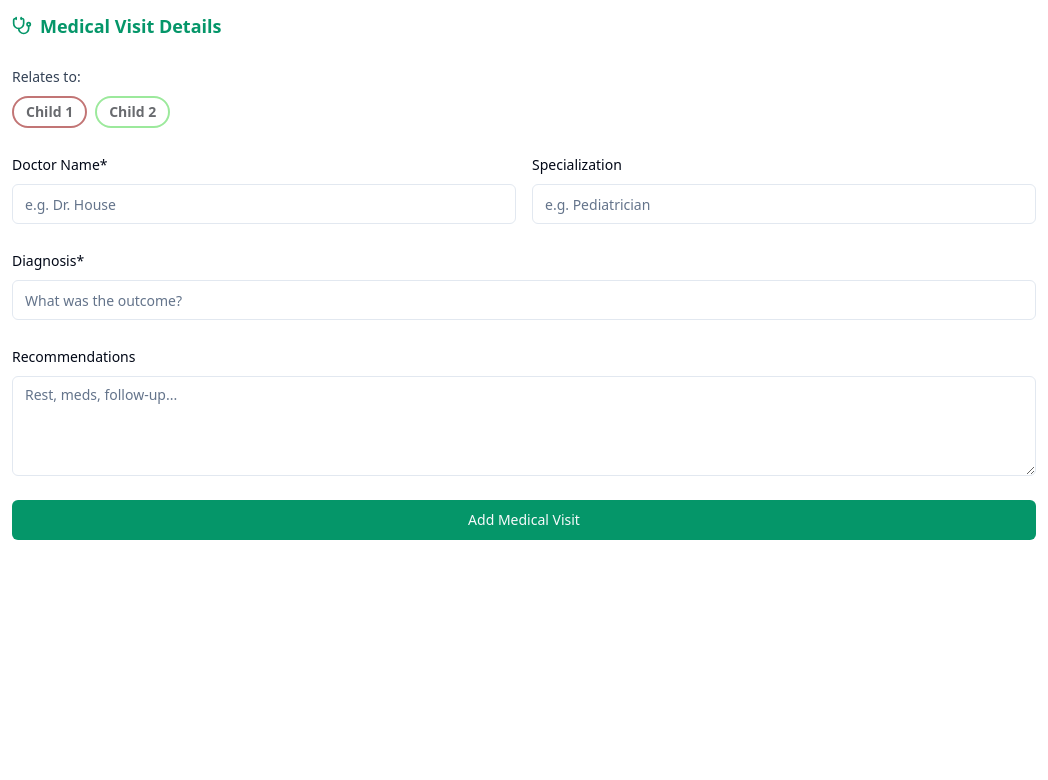
it: MedicalForm › shows validation errors when fields are empty
Click the button "Add Medical Visit" at (524, 520), box [12,500,1036,540]
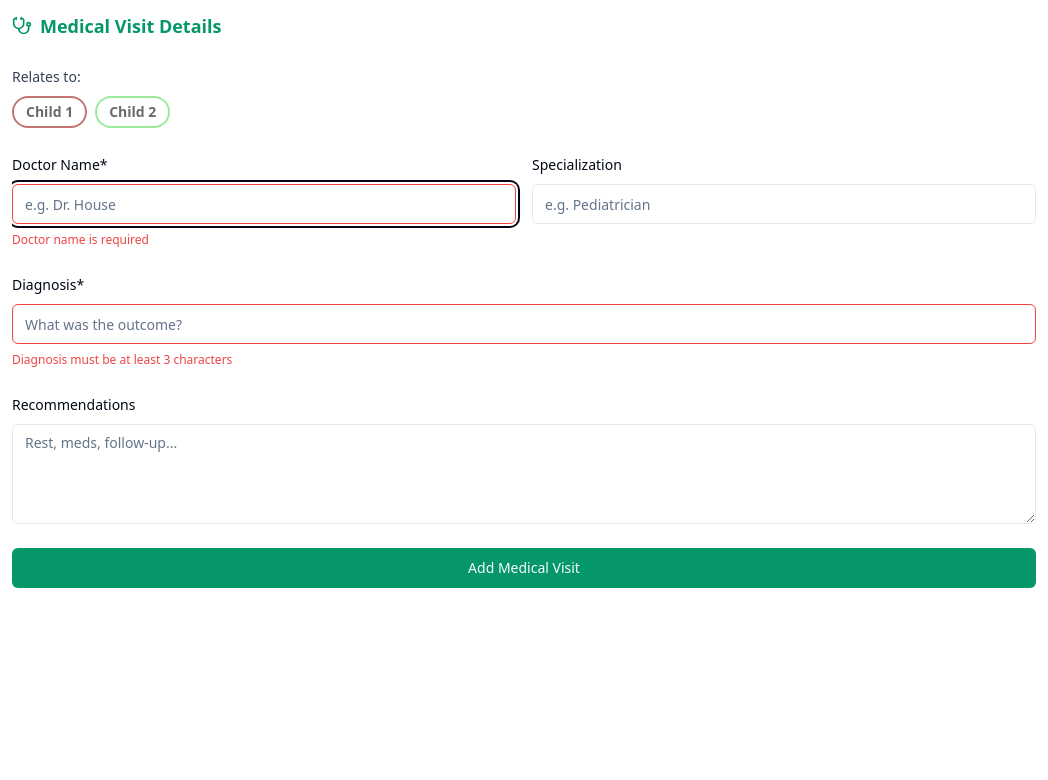
Result: the text "Doctor name is required" is shown at [12,231,149,248]
Result: the text "Diagnosis must be at least 3 characters" is shown at [12,351,232,368]
